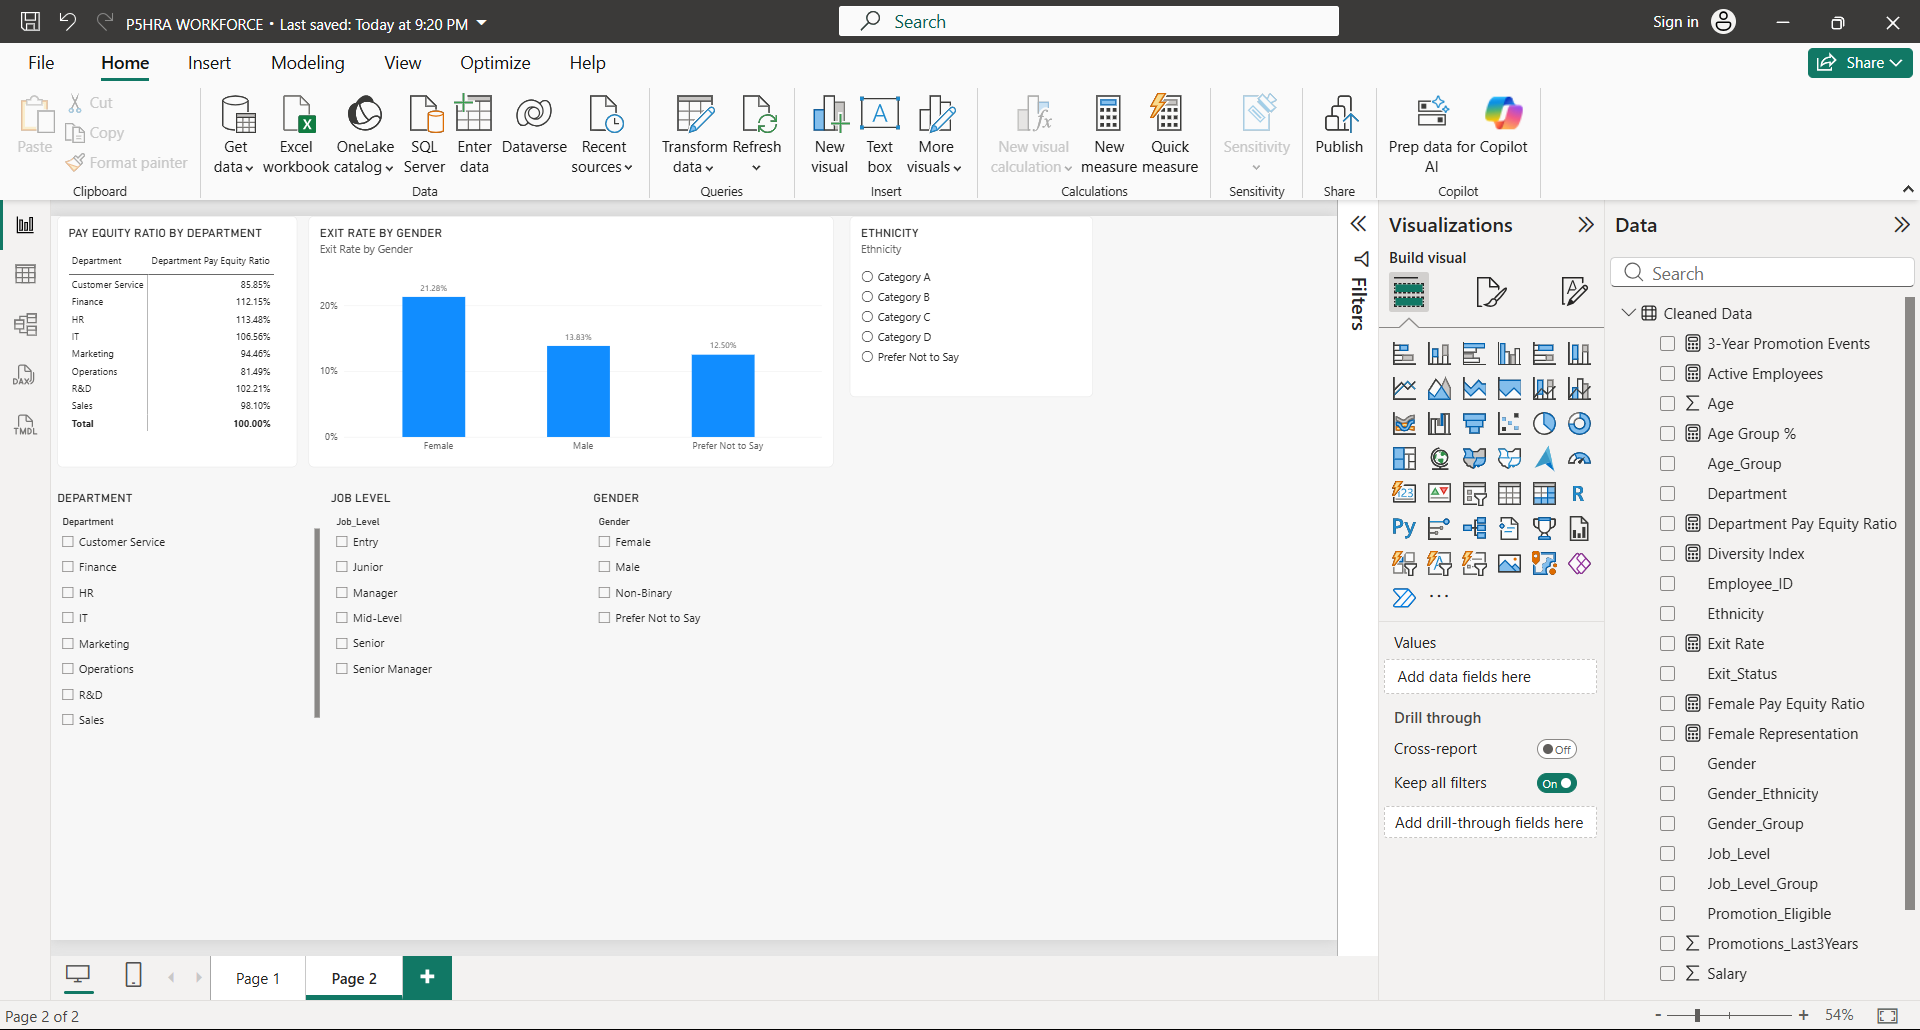

What the dashboard file says about the page in this screenshot:
{"tool":"powerbi","page":{"name":"Page 2","canvas":[1920,1080],"ordinal":1},"visuals":[{"type":"pivotTable","title":"PAY EQUITY RATIO BY DEPARTMENT","fields":{"Rows":["Cleaned Data.Department"],"Values":["Cleaned Data.Department Pay Equity Ratio"]},"box":[9.5,0,358.5,375.1],"z":0},{"type":"clusteredColumnChart","title":"EXIT RATE BY GENDER","fields":{"Category":["Cleaned Data.Gender"],"Y":["Cleaned Data.Exit Rate"]},"box":[384.4,0,783.8,375.1],"z":1},{"type":"listSlicer","title":"ETHNICITY","fields":{"Values":["Cleaned Data.Ethnicity"]},"box":[1191.7,0,363.2,270.6],"z":2},{"type":"slicer","title":"DEPARTMENT","fields":{"Values":["Cleaned Data.Department"]},"box":[9.5,410.7,392,350],"z":3},{"type":"slicer","title":"JOB LEVEL","fields":{"Values":["Cleaned Data.Job_Level"]},"box":[417.8,410.7,392,350],"z":4},{"type":"slicer","title":"GENDER","fields":{"Values":["Cleaned Data.Gender"]},"box":[809.5,410.7,183.7,350.3],"z":5}]}

Visuals, with their boxes on the page's 1920x1080 design canvas (x1, y1, x2, y2). These are canvas units, not pixel positions in the 1920x1030 screenshot, which may show the page scaled, cropped or inside an application window:
"PAY EQUITY RATIO BY DEPARTMENT" pivotTable: 10, 0, 368, 375
"EXIT RATE BY GENDER" clusteredColumnChart: 384, 0, 1168, 375
"ETHNICITY" listSlicer: 1192, 0, 1555, 271
"DEPARTMENT" slicer: 10, 411, 402, 761
"JOB LEVEL" slicer: 418, 411, 810, 761
"GENDER" slicer: 810, 411, 993, 761
